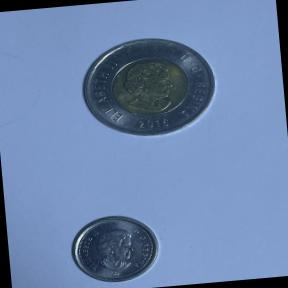coin: (74, 30, 224, 144), (64, 210, 165, 288)
